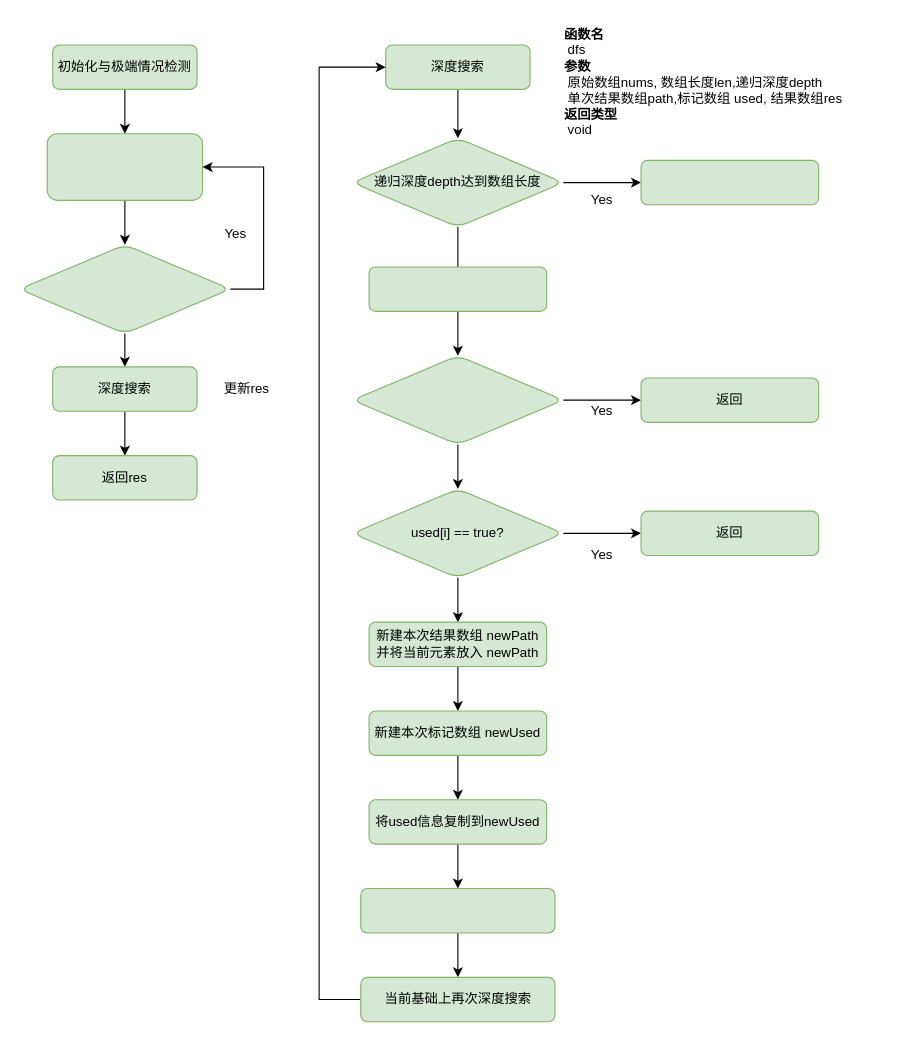
The diagram is 902 pixels wide and 1041 high, and some of its shapes have lost their labels. The centre of each missing label's shape, as x and y in pixels:
"将当前元素所在位置标记为true" goes at pixel 457 910.
"将本次搜索到的排列加入res 返回" goes at pixel 729 182.
"数组为空？" goes at pixel 124 289.
"数组长度 len res 存放 List<List<ITG>> 标记数组 used 单词结果数组 path" goes at pixel 124 166.
"是否遍历结束？" goes at pixel 457 400.
"遍历used" goes at pixel 457 288.
